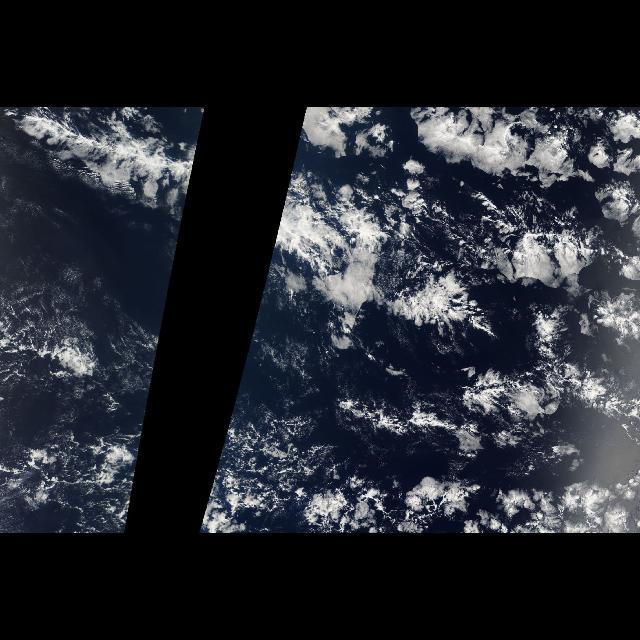Fish: (250, 110, 488, 342), (9, 108, 208, 342)
Flower: (302, 114, 640, 532)
Gravel: (18, 412, 146, 506), (205, 412, 322, 506)
